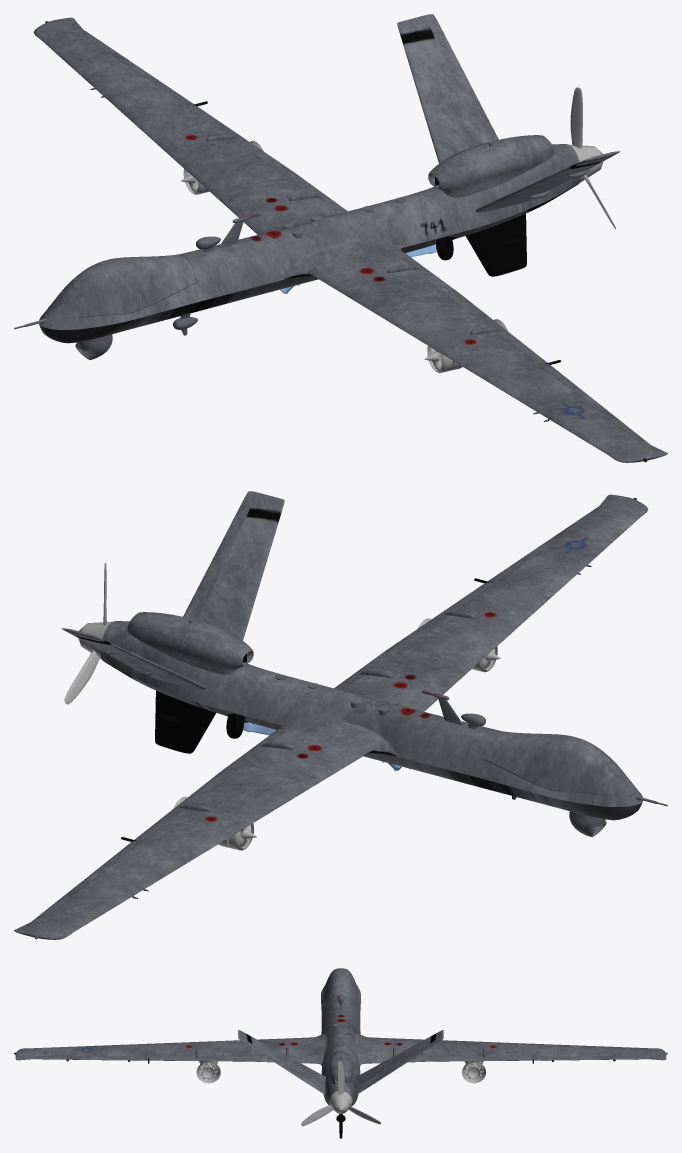
3 renders of one model, top to bottom at view 1: azimuth 30°, elevation 25°; view 2: azimuth 150°, elevation 25°; view 3: azimuth 270°, elevation 25°, orthographic. The views are drawn at different scales.
Visible parts, largest first — view 1: Fuselage, HStabilizerR, Engine, VStabilizer, ElevatorR, HStabilizerL, Antennas, FlapL2, AileronL, Blades, FlapR2, AileronR; view 2: Fuselage, HStabilizerL, Engine, VStabilizer, ElevatorL, HStabilizerR, Antennas, FlapR2, AileronR, FlapL2, Blades, AileronL; view 3: Fuselage, HStabilizerR, HStabilizerL, Blades, Engine, FlapR2, FlapL2, ElevatorR, ElevatorL, AileronR, AileronL, Propeller (+4 smaller).
Boxes of the visible parts, x1,y1,x2,y2 form: Fuselage: (33, 17, 667, 462); HStabilizerR: (397, 15, 483, 163); Engine: (428, 135, 554, 197); VStabilizer: (466, 219, 526, 276); ElevatorR: (424, 14, 498, 143); HStabilizerL: (475, 152, 611, 212); Antennas: (14, 88, 549, 421); FlapL2: (446, 292, 547, 363); AileronL: (539, 360, 649, 444); Blades: (570, 87, 615, 228); FlapR2: (187, 105, 294, 172); AileronR: (75, 29, 207, 106); Fuselage: (14, 494, 648, 939); HStabilizerL: (198, 492, 284, 640); Engine: (127, 612, 253, 674); VStabilizer: (155, 696, 215, 753); ElevatorL: (183, 491, 257, 620); HStabilizerR: (70, 629, 206, 689); Antennas: (132, 565, 667, 898); FlapR2: (134, 769, 235, 840); AileronR: (32, 837, 142, 921); FlapL2: (387, 582, 494, 649); Blades: (64, 562, 106, 704); AileronL: (474, 506, 606, 583); Fuselage: (15, 968, 666, 1106); HStabilizerR: (356, 1030, 443, 1087); HStabilizerL: (238, 1030, 325, 1087); Blades: (301, 1061, 380, 1126); Engine: (328, 1051, 353, 1084); FlapR2: (430, 1053, 532, 1061); FlapL2: (149, 1053, 251, 1061); ElevatorR: (356, 1036, 443, 1094); ElevatorL: (238, 1036, 325, 1094); AileronR: (532, 1056, 650, 1063); AileronL: (31, 1056, 149, 1063); Propeller: (329, 1091, 352, 1113).
Size of the model in its own units: 297 by 89.69 by 522.
